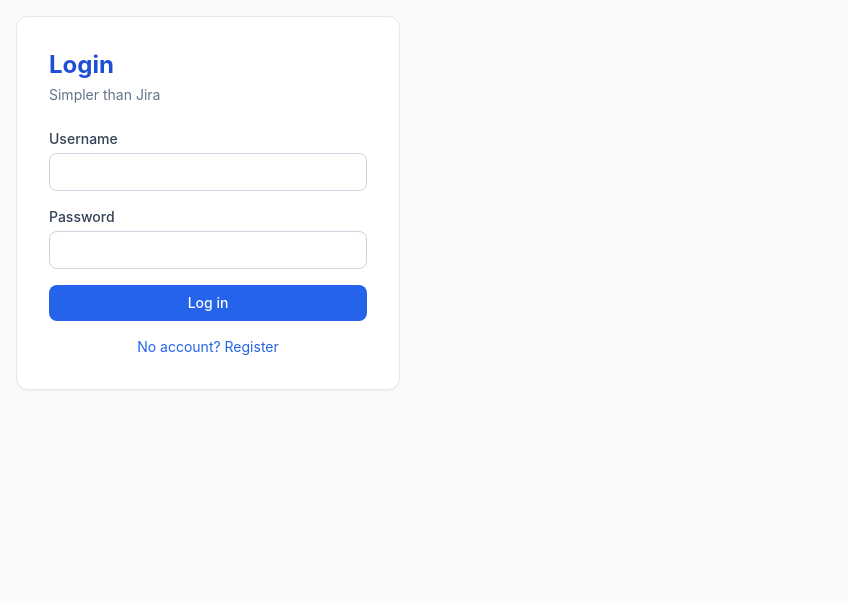
Test: Login form › shows error toast on wrong credentials
The image size is (848, 603).
Type "wrong" into the field labelled "Username".
click(208, 172); type("wrong")  # box [49,153,367,191]
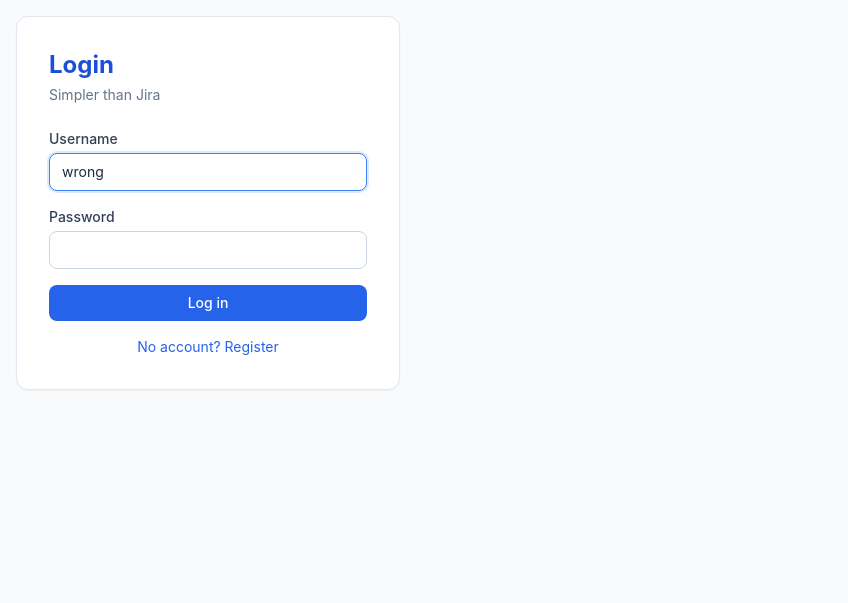
Type "wrongpass" into the password field labelled "Password".
click(208, 250); type("wrongpass")  # box [49,231,367,269]
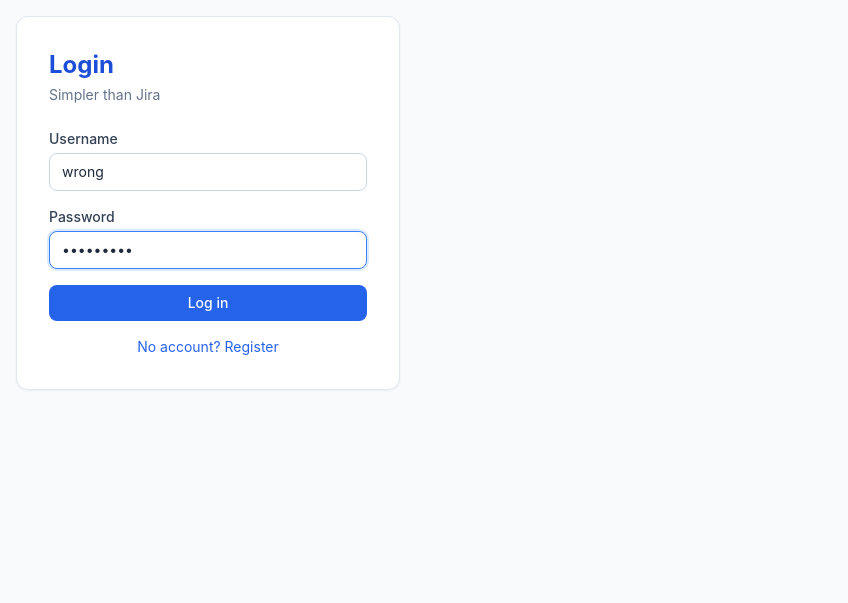
Click the button "Log in".
click(208, 303)  # box [49,285,367,321]
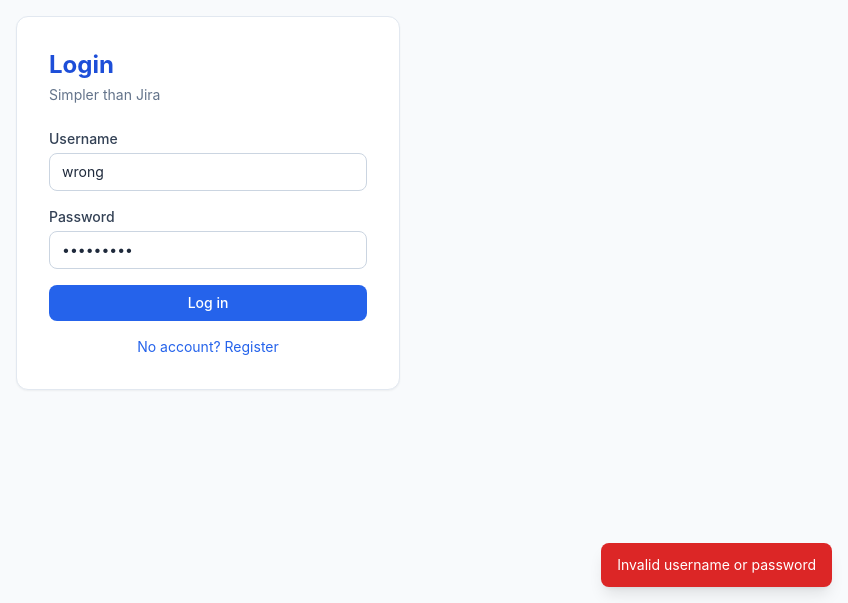
Expected: the text "Invalid username or password" is shown, [601,543,832,587]
